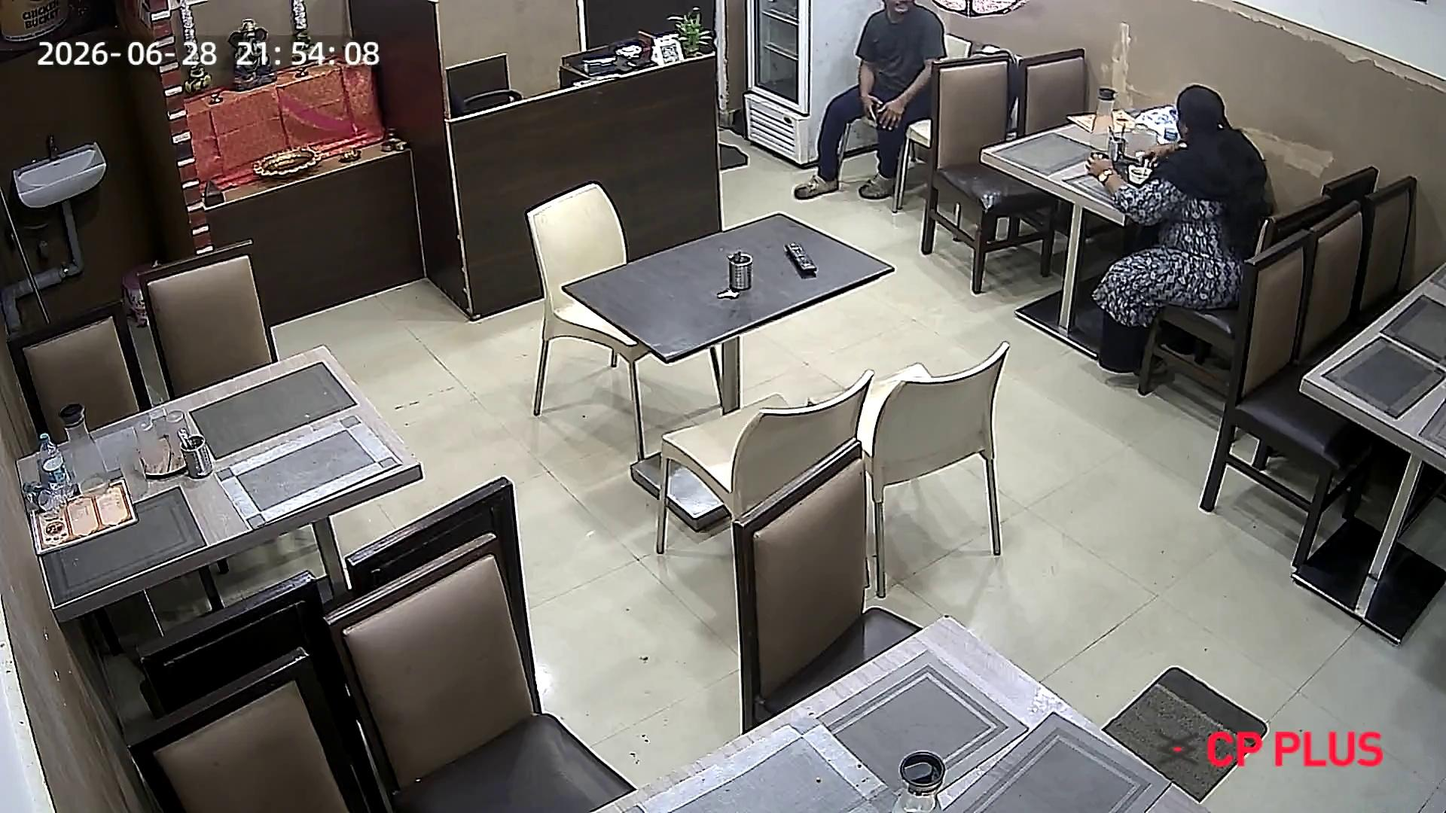clean: (585, 676, 1264, 813), (561, 209, 892, 362), (1295, 286, 1446, 460)
dirty: (14, 339, 420, 609)
occupied: (977, 103, 1309, 249)
